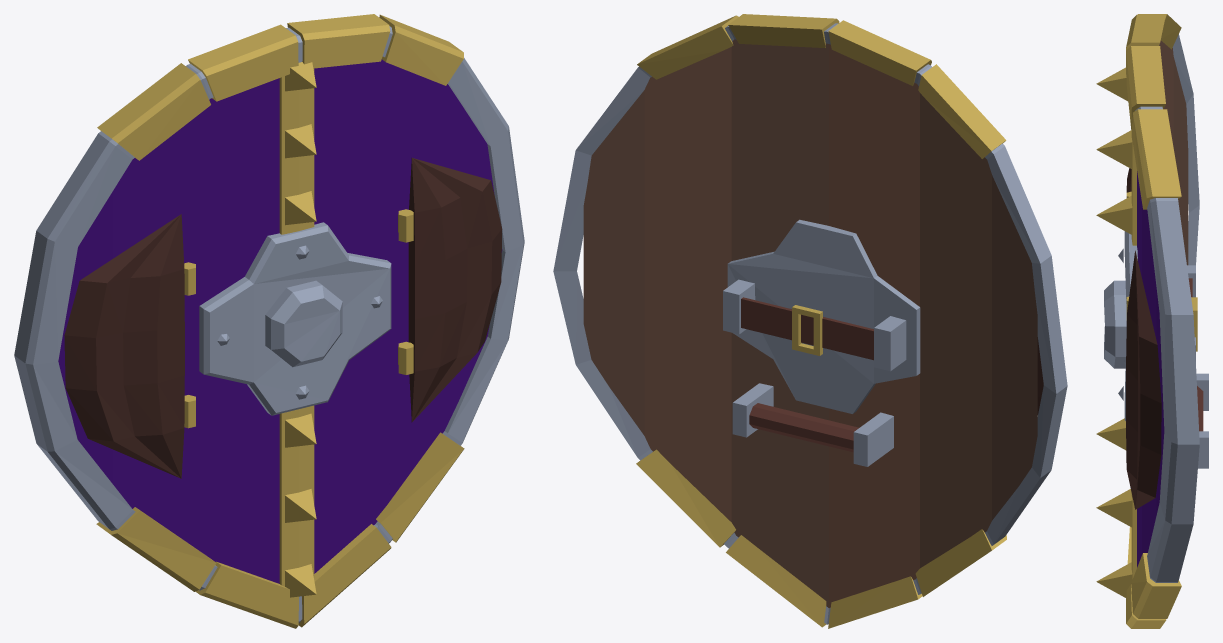
Rendered from shield-24b9f0.glb.
3 views of the same model, side by side, from view 1: azimuth 30°, elevation 25°; view 2: azimuth 150°, elevation 25°; view 3: azimuth 270°, elevation 25° (orthographic). The views are drawn at different scales.
Parts seen in each view (by area): view 1: shield-metal, shield-matte, panel-left-matte, panel-right-matte; view 2: shield-matte, shield-metal; view 3: shield-metal, panel-right-matte, shield-matte.
Part boxes in pixels (x1,y1,x2,y2): shield-metal: (14,14,524,628); shield-matte: (58,59,502,583); panel-left-matte: (64,214,184,478); panel-right-matte: (408,158,502,422); shield-matte: (583,39,1037,607); shield-metal: (553,14,1067,628); shield-metal: (1096,14,1208,628); panel-right-matte: (1126,250,1161,509); shield-matte: (1137,40,1203,567).
Bounding box in the file's own units: 0.7983 × 0.9068 × 0.159.
